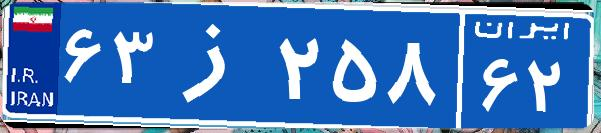2: (273, 28, 330, 110), (525, 38, 570, 115)
3: (110, 28, 158, 105)
5: (330, 28, 385, 110)
6: (57, 26, 110, 107), (475, 38, 525, 113)
8: (385, 28, 445, 110)
ز: (158, 15, 273, 115)
